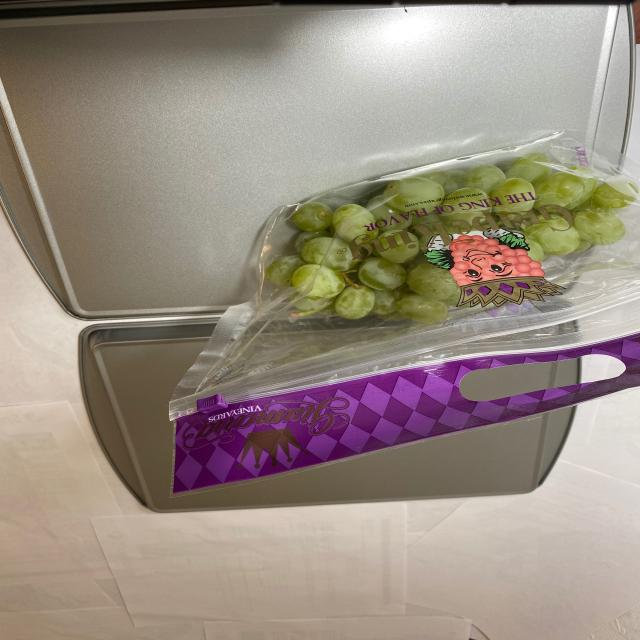grapes: (246, 154, 640, 329)
